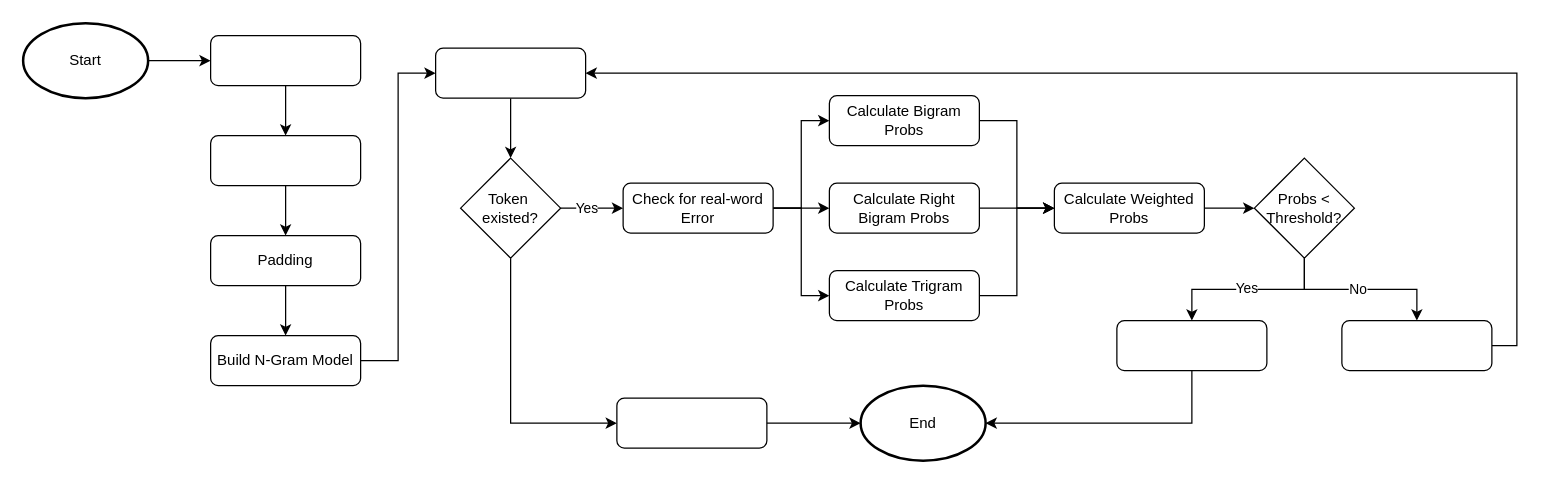
The diagram is 1549 pixels wide and 483 high, and some of its shapes have lost their labels. The box of each missing label's shape, as (x1, y1, x2, y2) in pixels:
Check for non-word Error: (434, 47, 586, 98)
Continue for Other Tokens: (1341, 319, 1492, 371)
Mark Token as Real-Word Error: (1116, 319, 1267, 371)
Marked as Non-Word Error: (616, 397, 767, 448)
Sentence Segmentation: (209, 34, 361, 86)
Tokenization: (209, 134, 361, 186)
